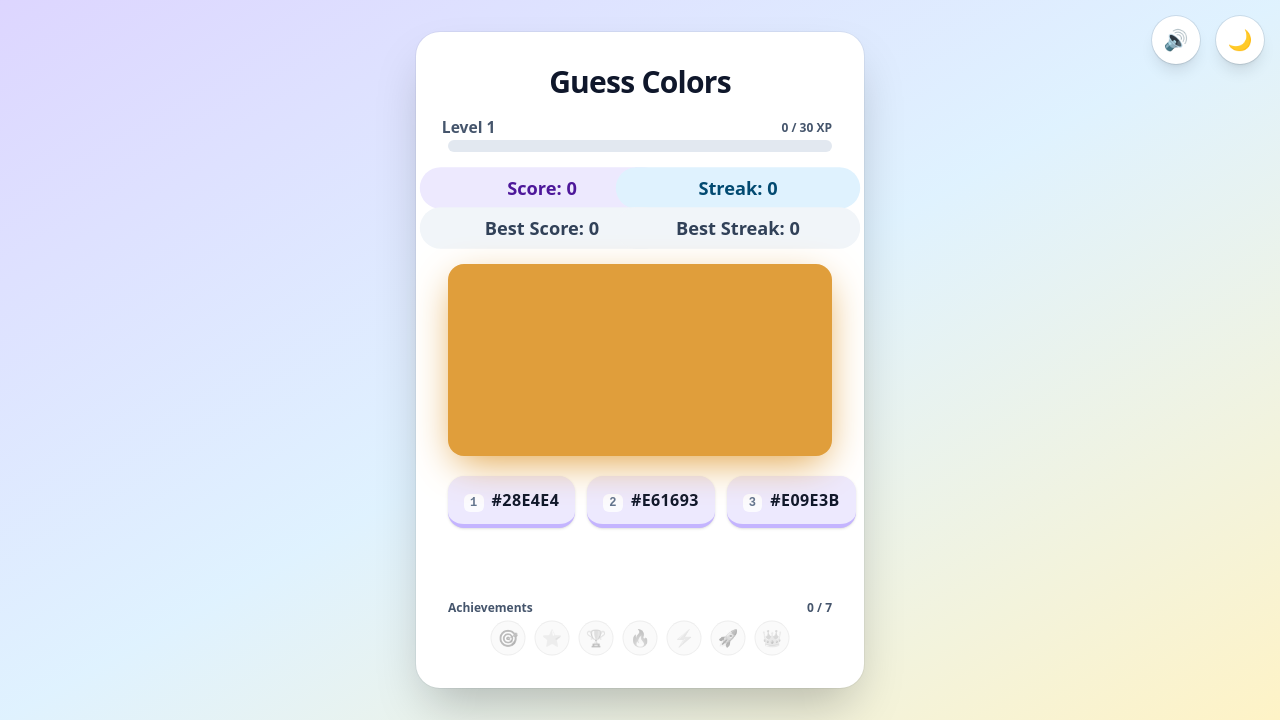
checks for correct answer
What coordinates should you click on to do the following:
click the button "3#E09E3B"
I would click on:
 (791, 502)
Its box is [727,476,856,528].
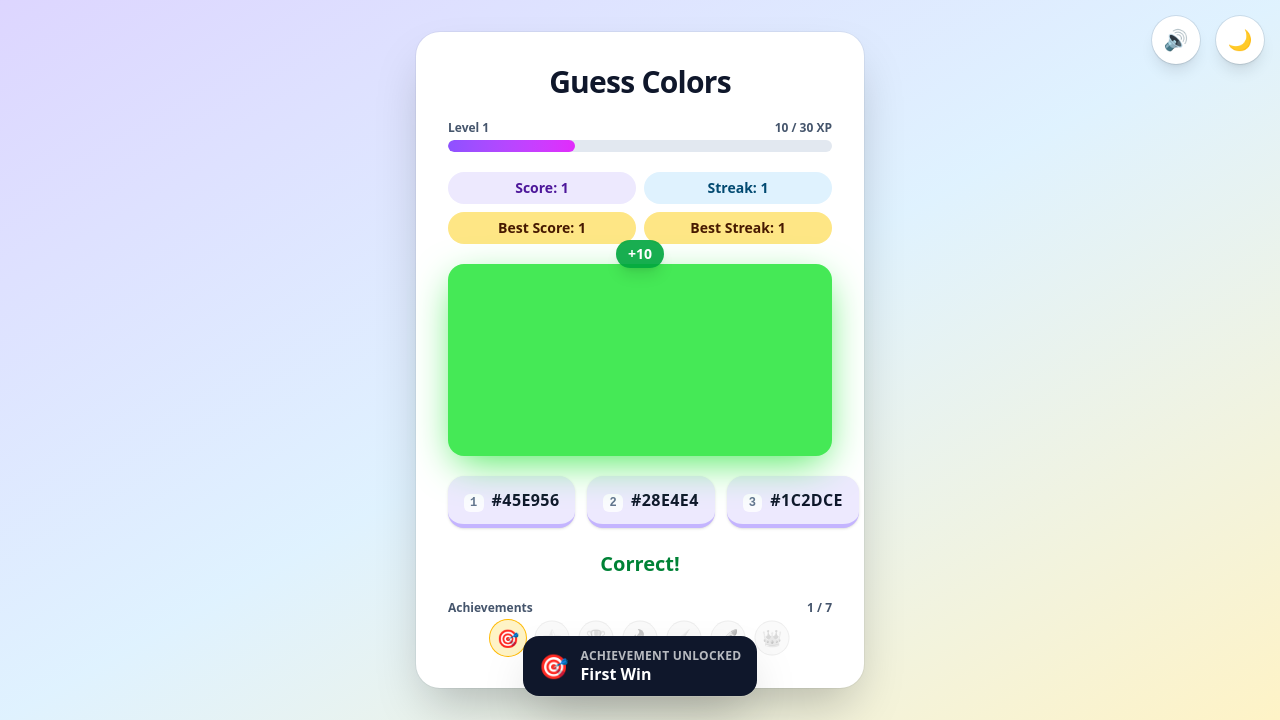
Result: the text "Correct!" is shown at [600,550,680,578]
